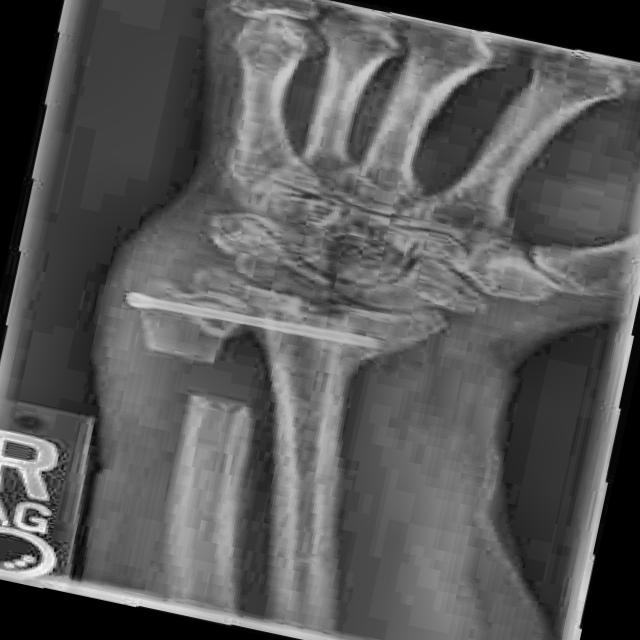fingers positive: (96, 306, 372, 442)
